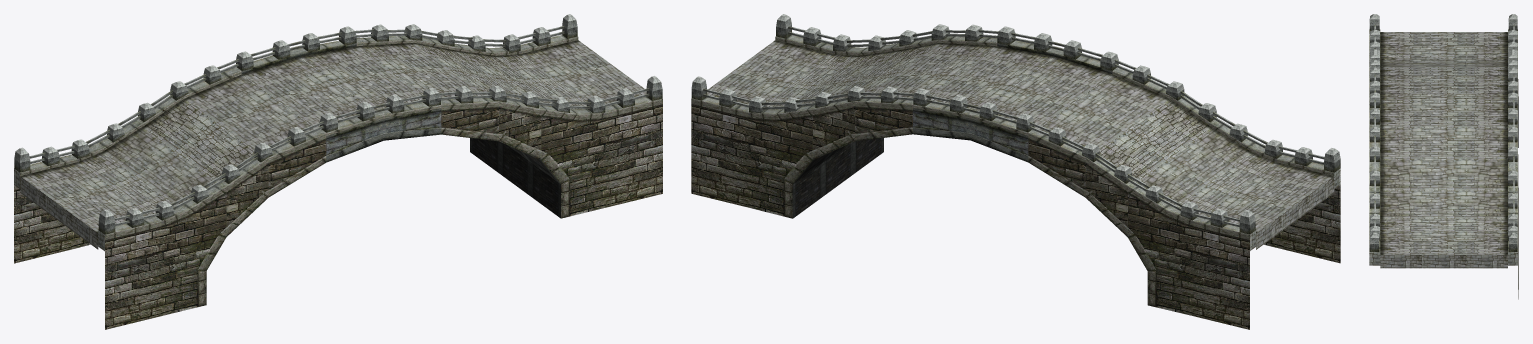
Rendered from a1-024-10m-bridge.fbx.
The picture shows the model from 3 angles, left to right: view 1: azimuth 30°, elevation 25°; view 2: azimuth 150°, elevation 25°; view 3: azimuth 270°, elevation 25°; orthographic projection. The views are drawn at different scales.
Visible parts, largest first — view 1: a1-024-10m-bridge-2; view 2: a1-024-10m-bridge-2; view 3: a1-024-10m-bridge-2.
Boxes of the visible parts, x1=… form: a1-024-10m-bridge-2: x1=14, y1=14, x2=662, y2=329; a1-024-10m-bridge-2: x1=691, y1=14, x2=1340, y2=329; a1-024-10m-bridge-2: x1=1369, y1=14, x2=1518, y2=299.
Size of the model in its own units: 28.93 by 7.94 by 8.18.
